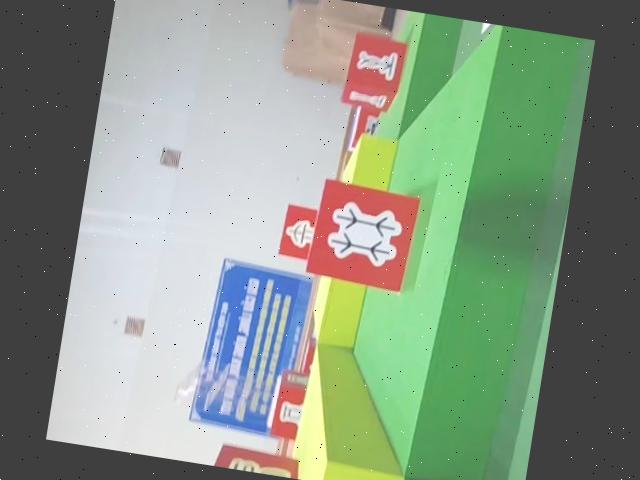R2 Fake: (203, 442, 300, 480)
R2 Real: (308, 177, 423, 295), (341, 26, 410, 120)
